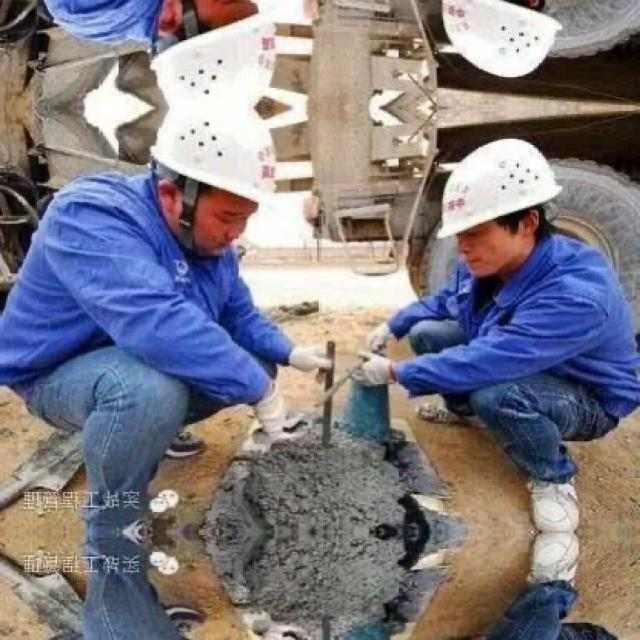helmet: (140, 108, 291, 256), (429, 131, 571, 281), (139, 0, 291, 109), (428, 0, 571, 86)
